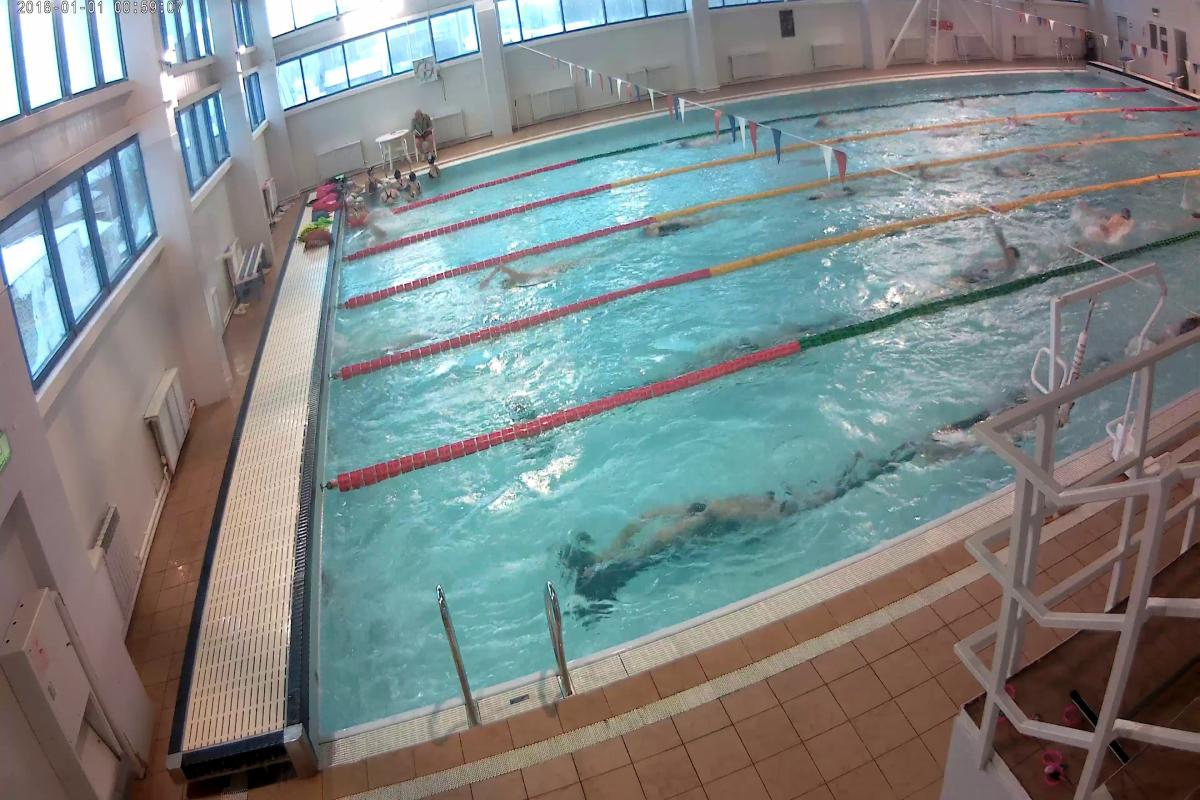swimmer: (617, 501, 798, 559), (922, 245, 1011, 295), (1071, 212, 1140, 254), (638, 211, 737, 239), (492, 270, 590, 286), (809, 187, 864, 201)
